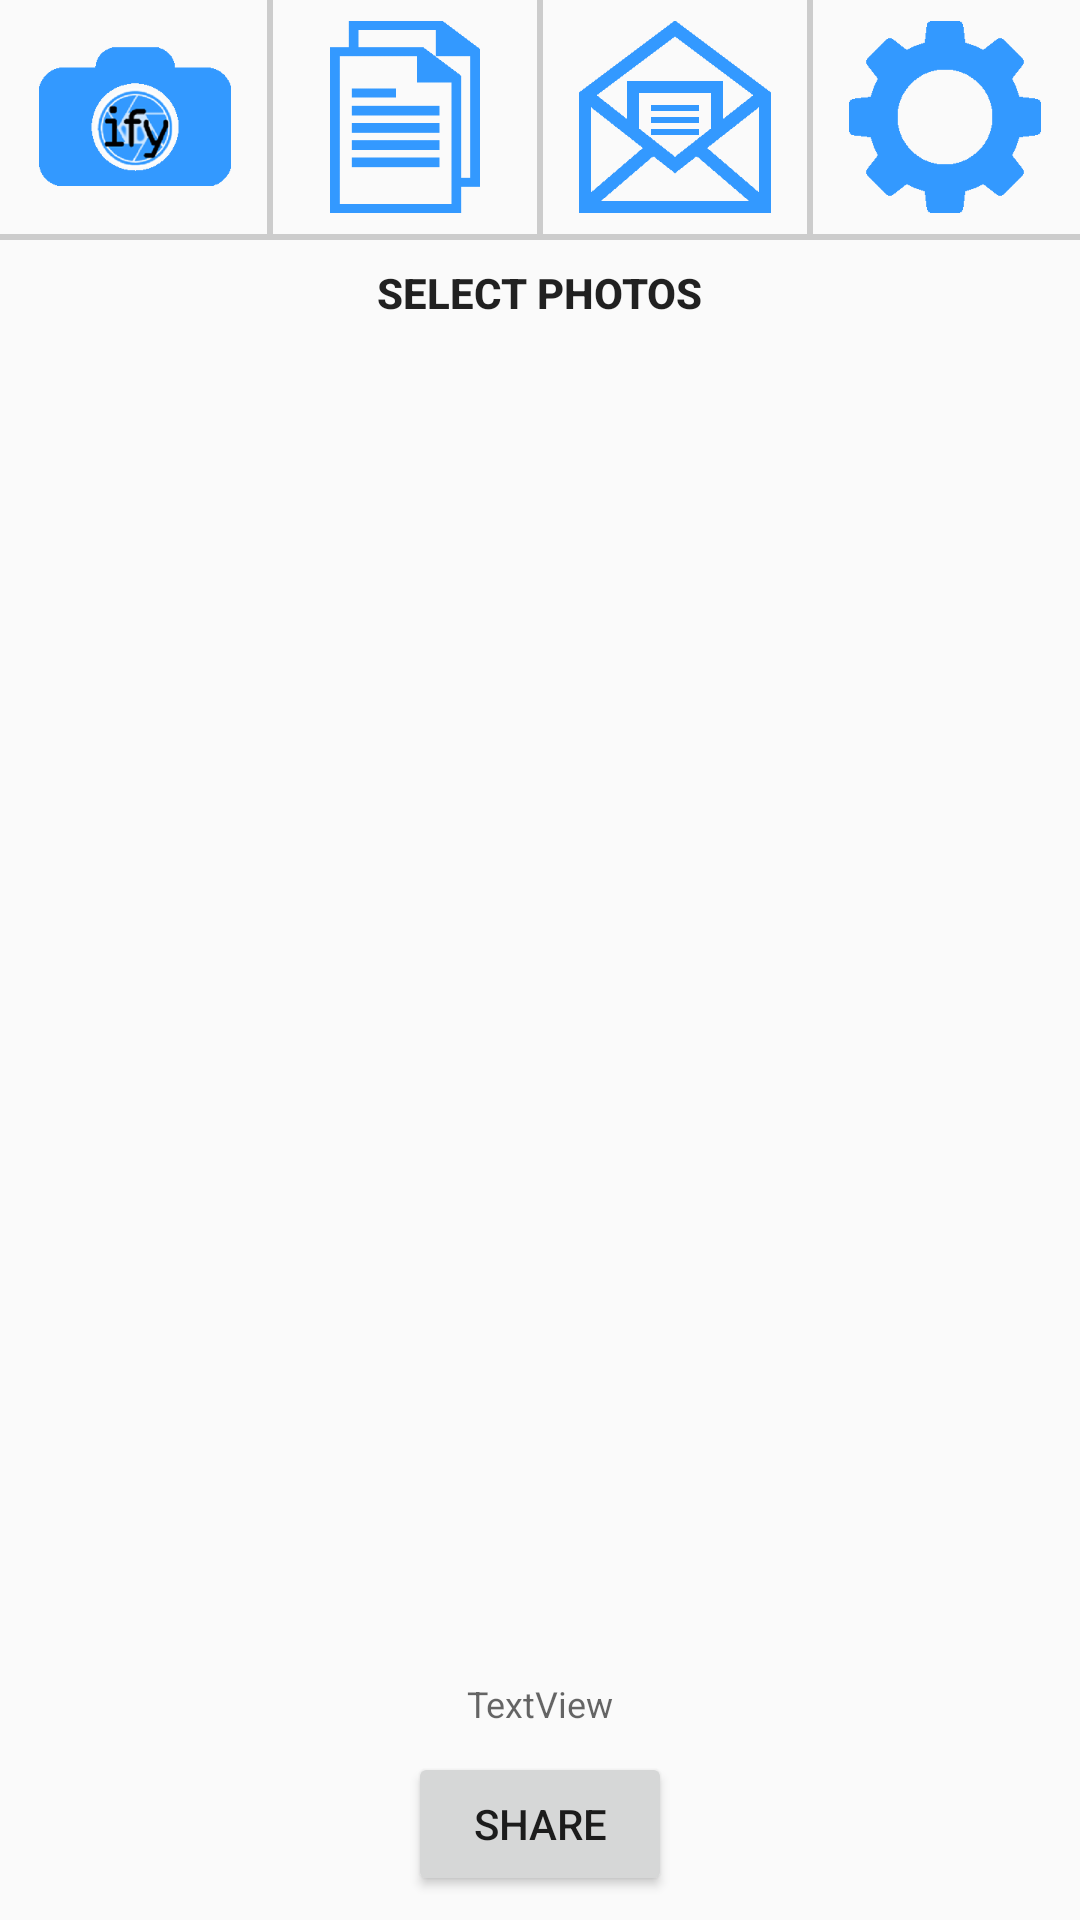

Named icons in this screenshot (1080px x 1920px) and their bounding boxes, (x1, y1, x2, y2):
camera: (0, 0, 267, 234)
file: (273, 0, 537, 234)
gear: (813, 0, 1080, 234)
